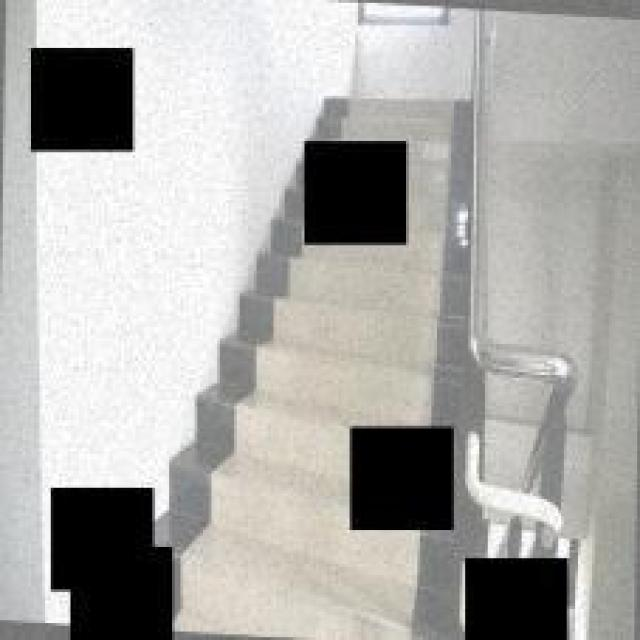upstair: (249, 261, 472, 419)
